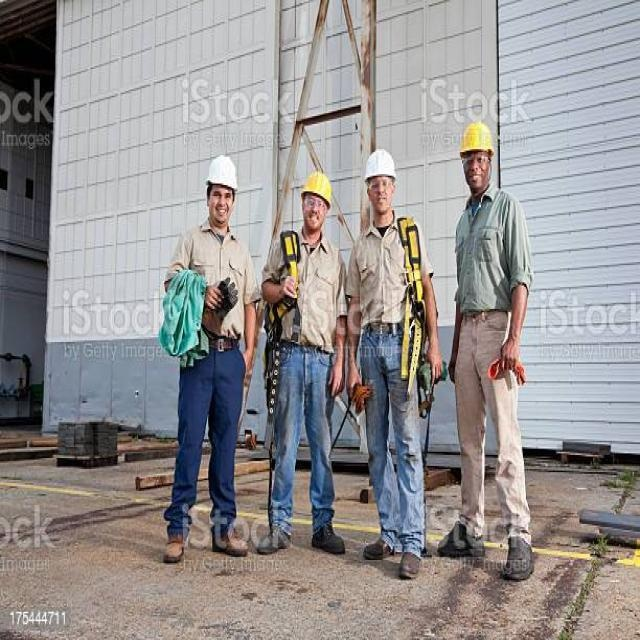Arnes_seguridad: (256, 223, 305, 428), (394, 207, 442, 408)
